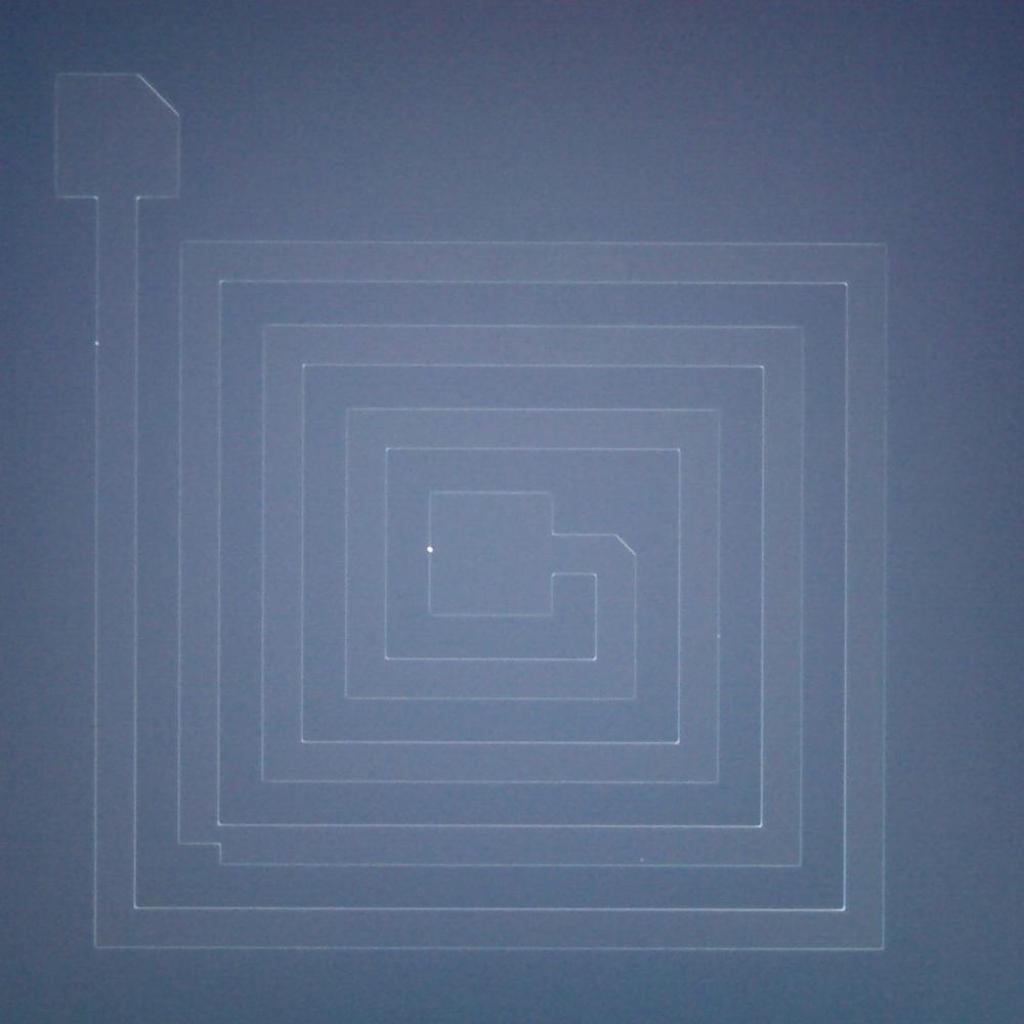dot: (420, 537, 445, 566)
edge circuit: (131, 56, 195, 127), (167, 831, 234, 876), (602, 524, 651, 572)
